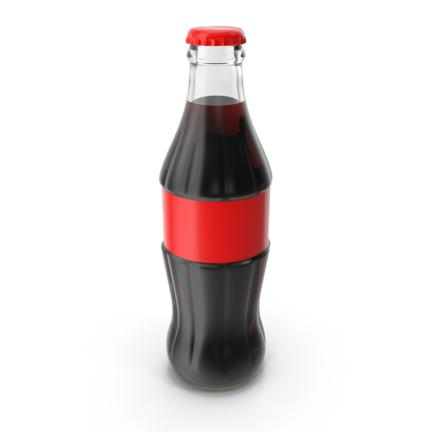container: (160, 44, 272, 388)
fluid: (160, 102, 273, 388)
fluid-surface: (187, 96, 245, 106)
